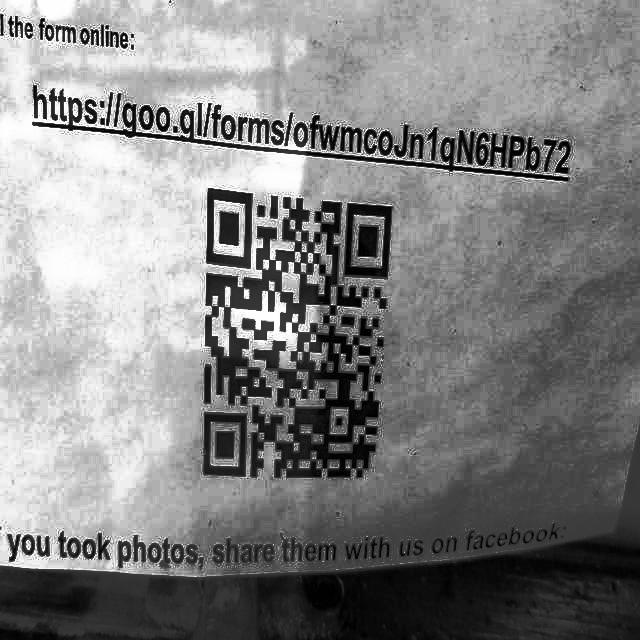qr_code: (195, 164, 393, 506)
